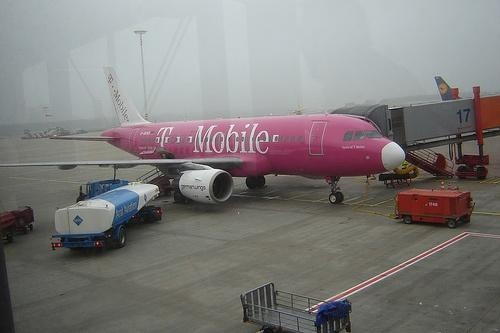aeroplane: (1, 66, 408, 207)
